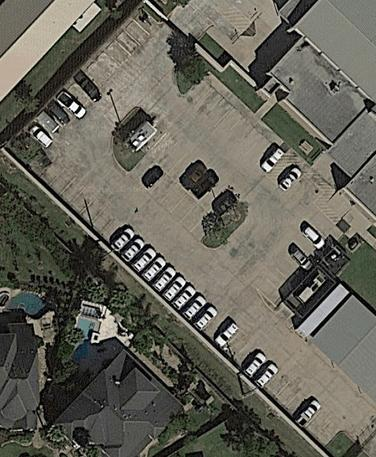parkingspot: (37, 157, 345, 451), (24, 7, 163, 151), (181, 75, 287, 177), (145, 131, 241, 222), (126, 153, 221, 243), (255, 224, 335, 309), (277, 165, 325, 208), (211, 13, 243, 45), (231, 0, 265, 25)
